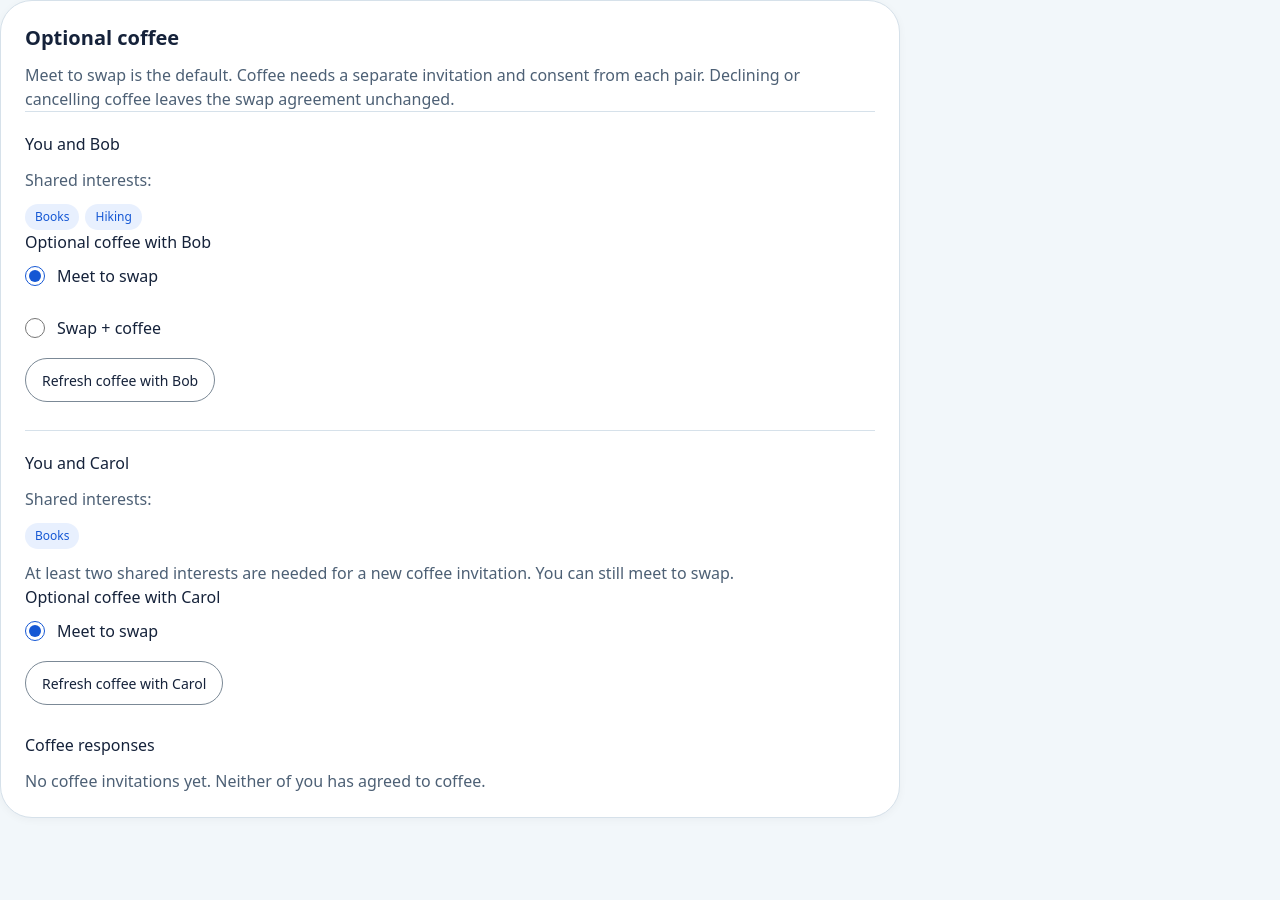
Test: unexpected success response keeps the send key for safe recovery
Click the radio button labelled "Swap + coffee" at (35, 328), box [25,318,45,338]
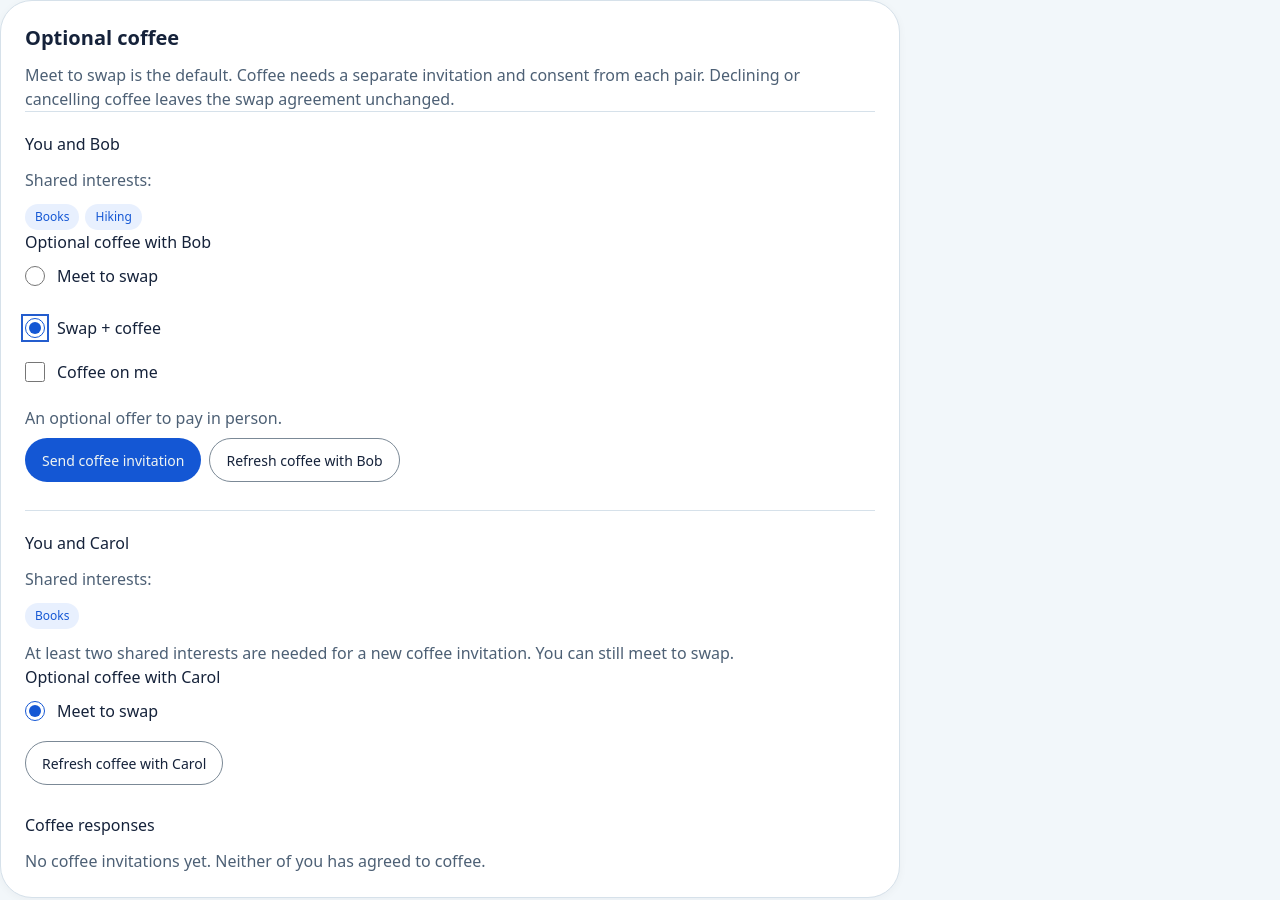
Click the button "Send coffee invitation" at (113, 460), box [25,438,201,482]
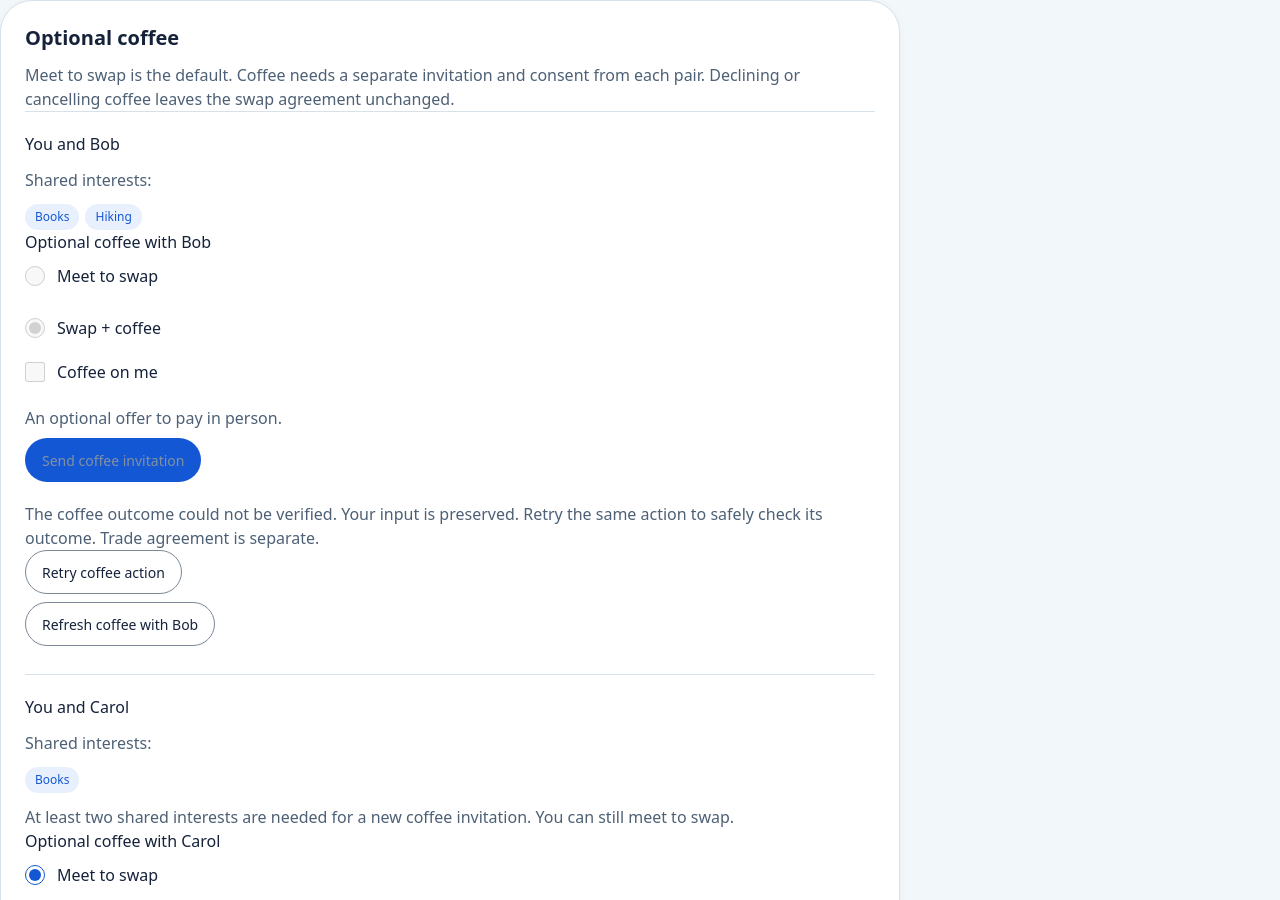
Now the button "Retry coffee action" is shown
Click the button "Retry coffee action" at (103, 572), box [25,550,182,594]
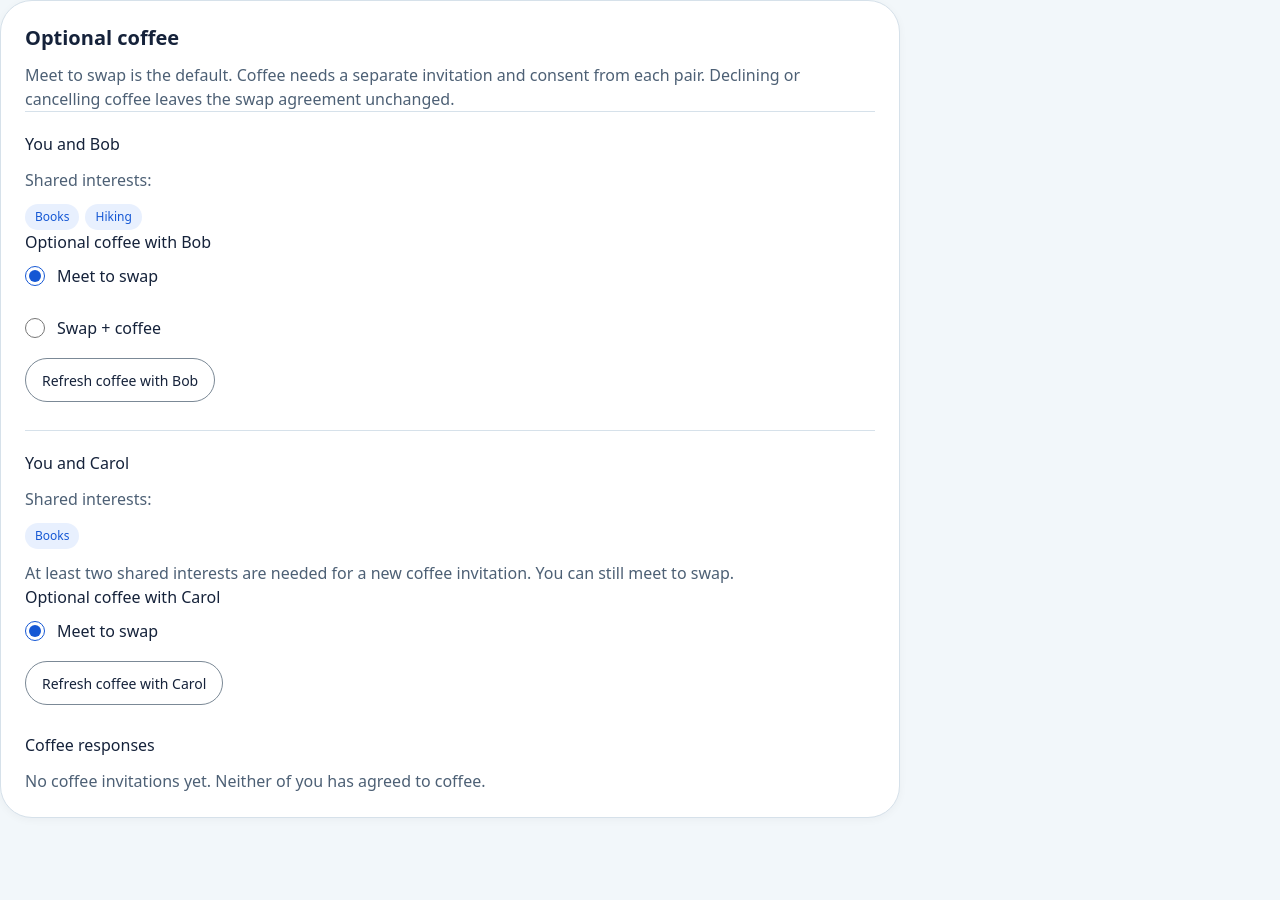
Now the button "Retry coffee action" is gone
